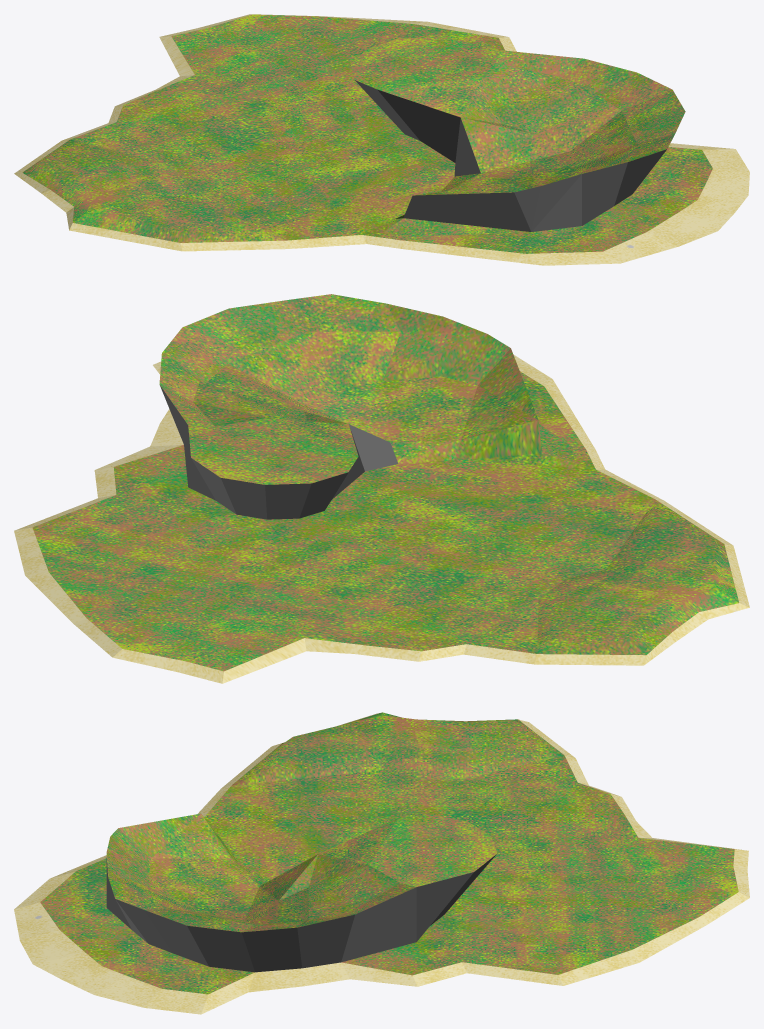
Rendered from islandModel2.fbx.
3 views of the same model, one above another, from view 1: azimuth 30°, elevation 25°; view 2: azimuth 150°, elevation 25°; view 3: azimuth 270°, elevation 25° (orthographic). The views are drawn at different scales.
Visible parts, largest first — view 1: pCylinder1; view 2: pCylinder1; view 3: pCylinder1.
Part boxes in pixels (box(x1,y1,x2,y2)): pCylinder1: box(14, 14, 749, 265); pCylinder1: box(14, 294, 749, 683); pCylinder1: box(14, 712, 749, 1014).
Size of the model in its own units: 288 by 26.53 by 298.
Materials: 2 (1 with a texture image).
